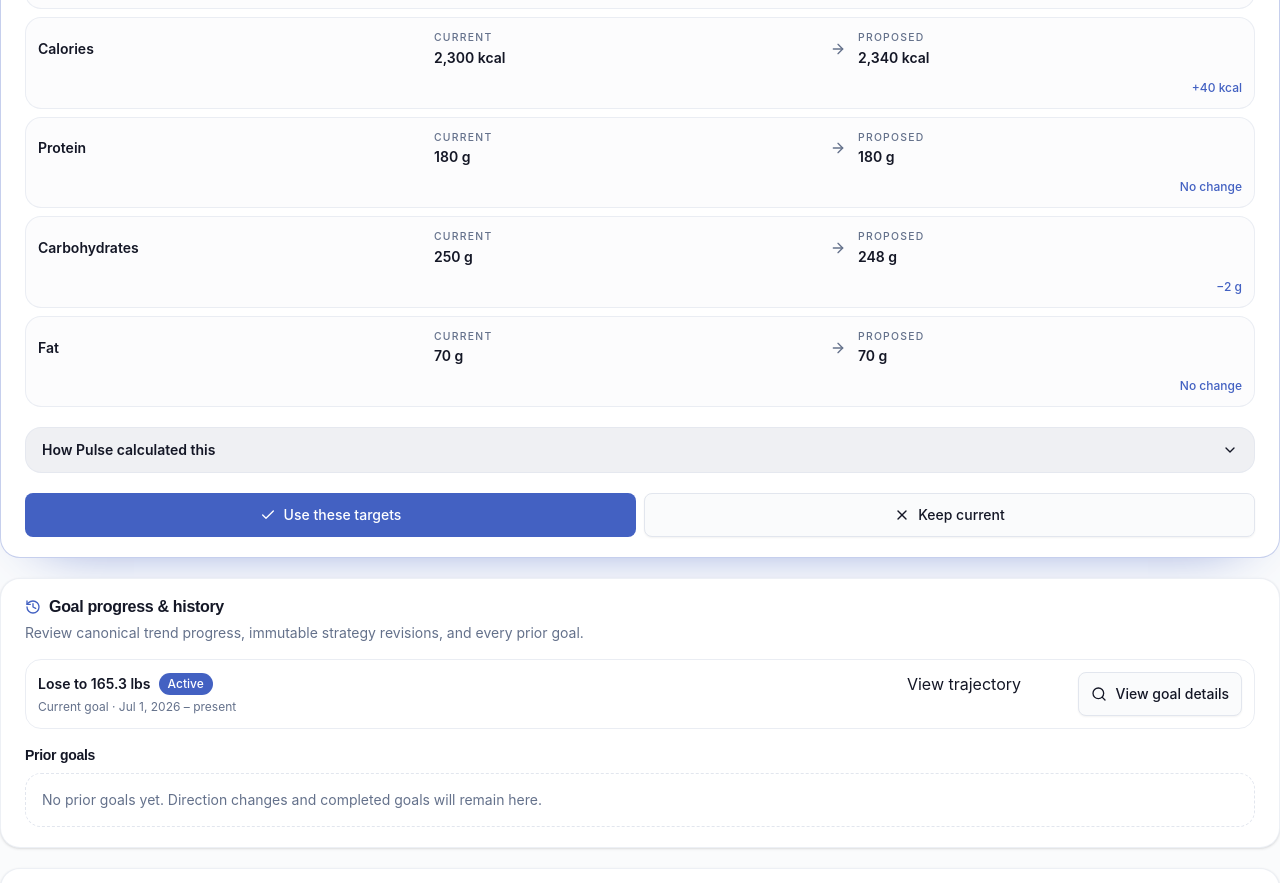
Test: AdaptiveCoach › renders pending comparison, attribution, details, and preferred-unit formatting
(page scrolled)
Click the heading "How Pulse calculated this": (129, 450) [42,441,1238,458]
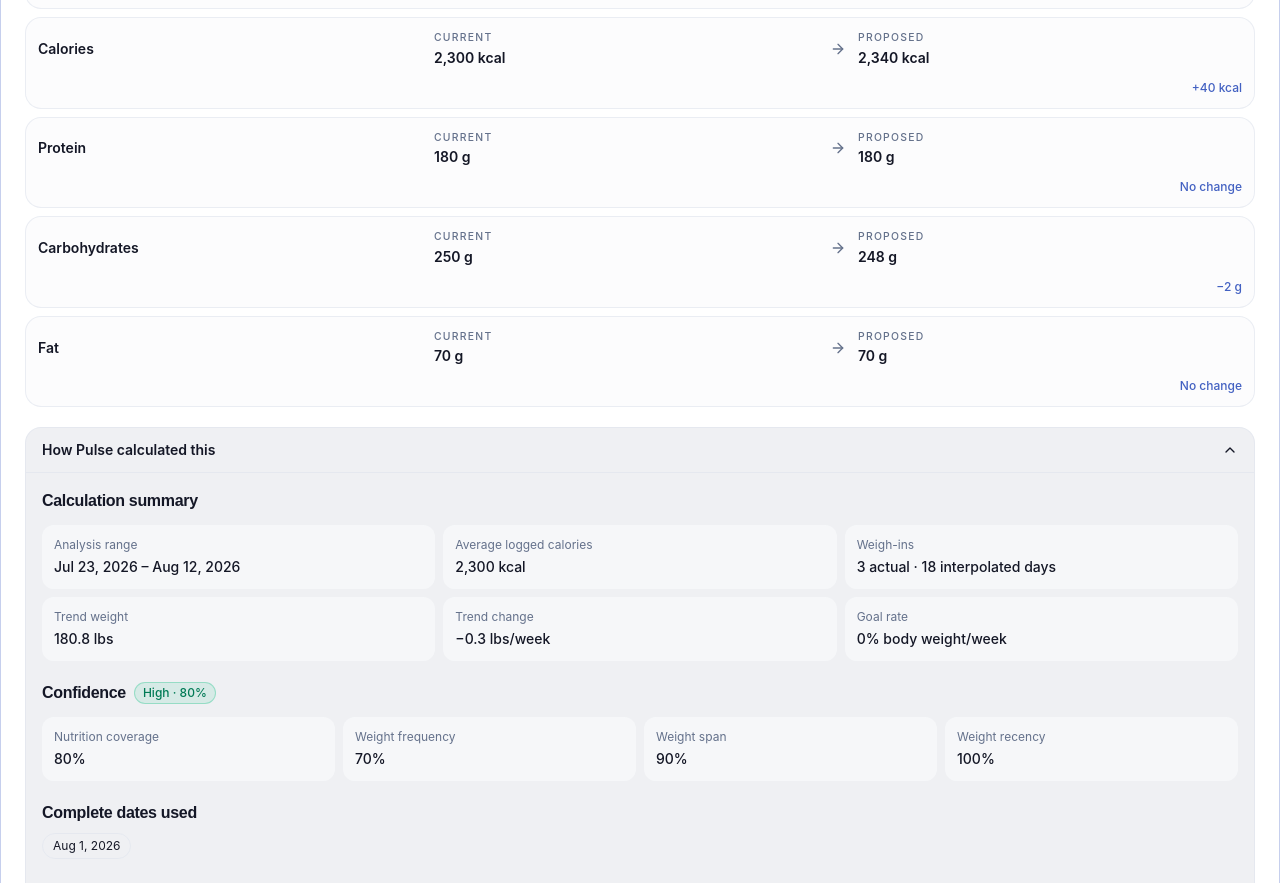
expect the text "180.8 lbs" is shown: met, box [54,630,114,647]
expect the text "High · 80%" is shown: met, box [134,682,216,704]
expect the heading "Complete dates used" is shown: met, box [42,804,197,821]
